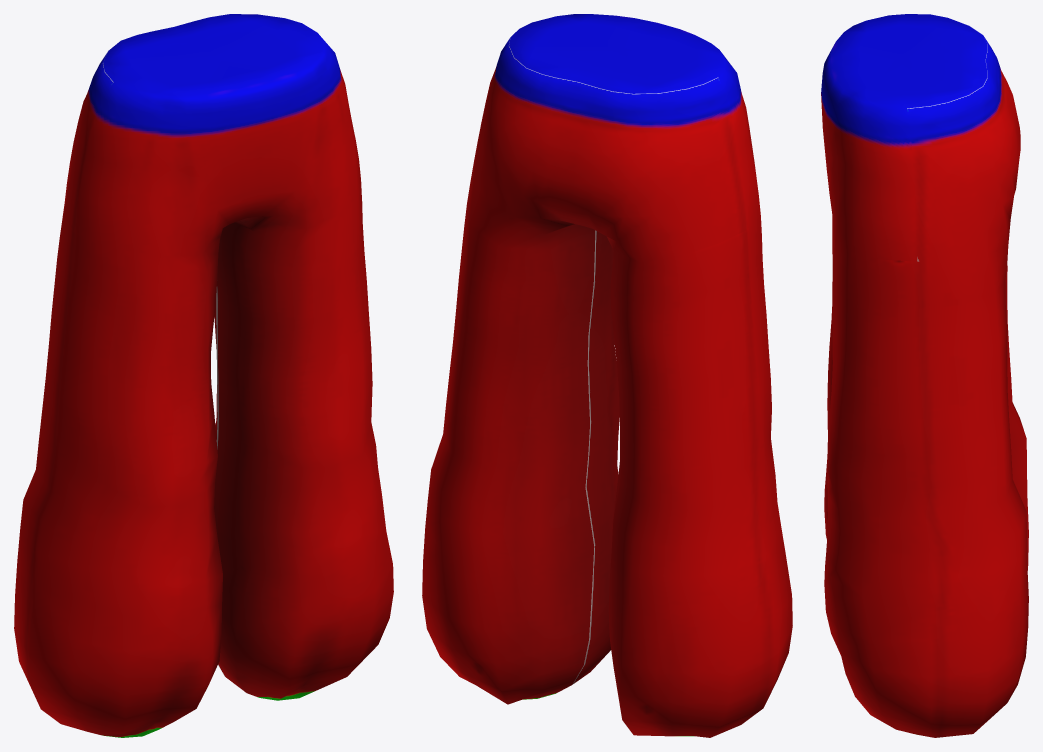
The model's file is Bottom_BaggyPantsShort.obj.
3 views of the same model, side by side, from view 1: azimuth 30°, elevation 25°; view 2: azimuth 150°, elevation 25°; view 3: azimuth 270°, elevation 25° (orthographic). The views are drawn at different scales.
Parts seen in each view (by area): view 1: Bottom_BaggyPantsShort_0; view 2: Bottom_BaggyPantsShort_0; view 3: Bottom_BaggyPantsShort_0.
Boxes of the visible parts, box(x1,y1,x2,y2) form: Bottom_BaggyPantsShort_0: box(14, 14, 393, 737); Bottom_BaggyPantsShort_0: box(422, 14, 792, 737); Bottom_BaggyPantsShort_0: box(821, 14, 1028, 737).
Size of the model in its own units: 0.4695 by 0.843 by 0.254.
Materials: 1 (1 with a texture image).
